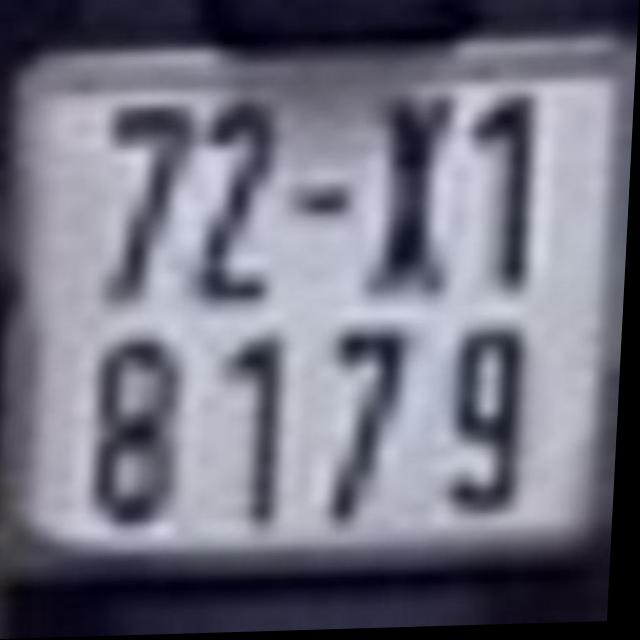1: (471, 96, 539, 305), (221, 334, 293, 527)
2: (196, 106, 283, 300)
7: (103, 104, 196, 304), (327, 332, 413, 532)
8: (93, 338, 187, 520)
9: (453, 325, 531, 518)
X: (374, 100, 460, 303)
